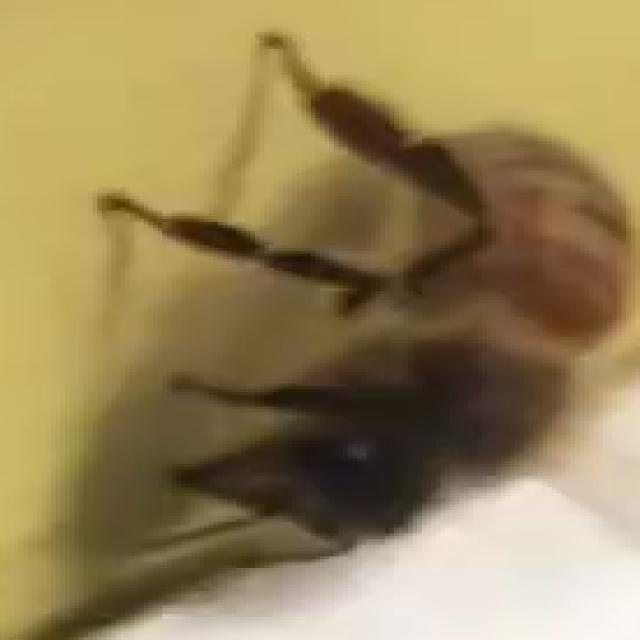honeybee: (182, 77, 640, 640)
